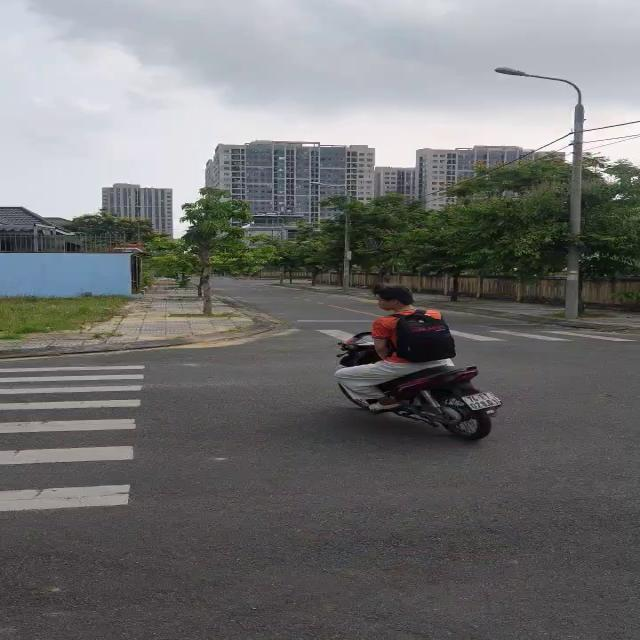without_helmet: (379, 278, 418, 320)
